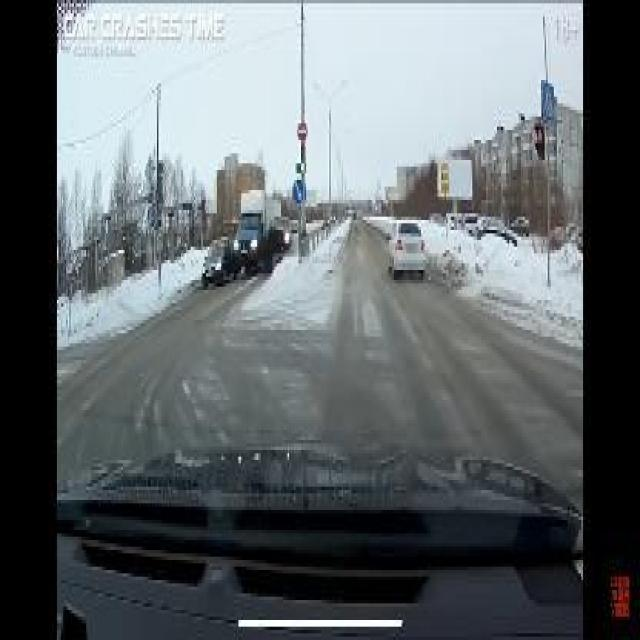accident: (235, 186, 294, 276)
